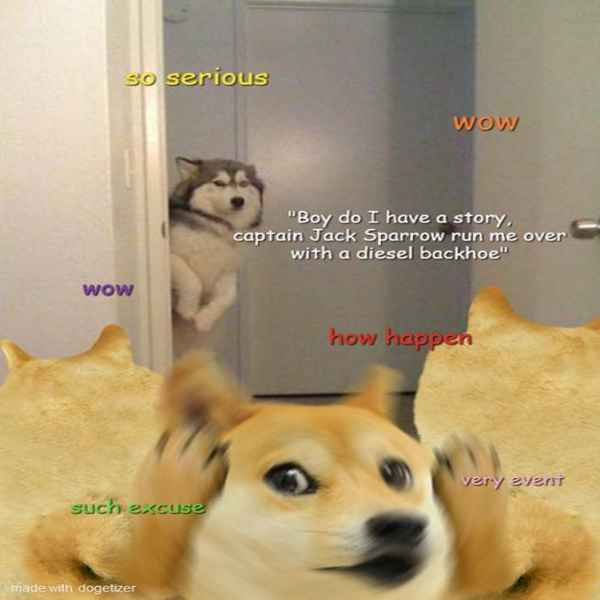doge: (184, 398, 453, 593), (172, 155, 276, 223)
